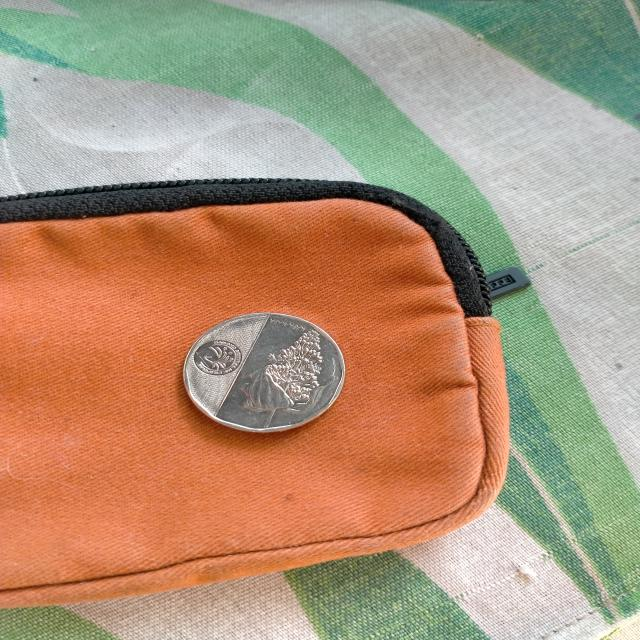10_New_Back: (236, 322, 335, 426)
